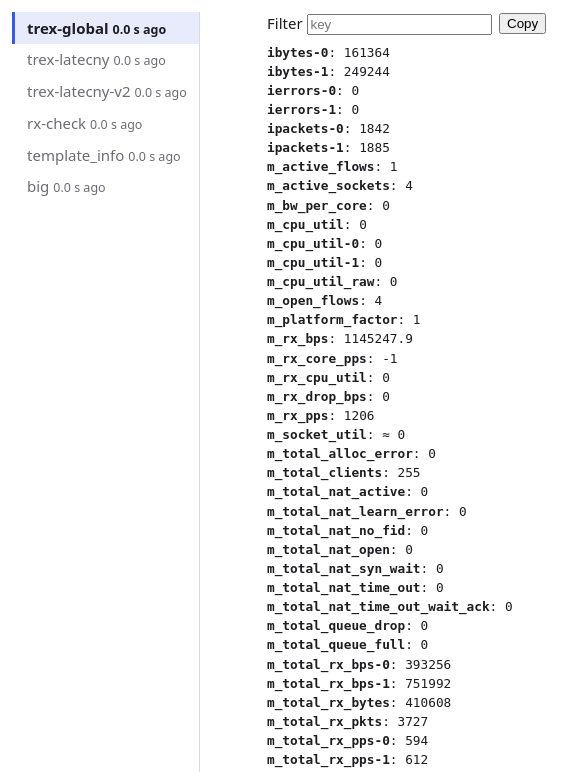
Test case: MonitorInspector › filter narrows keys
Click the tab "big 0.0 s ago": (105, 187) x1=12 y1=171 x2=199 y2=203
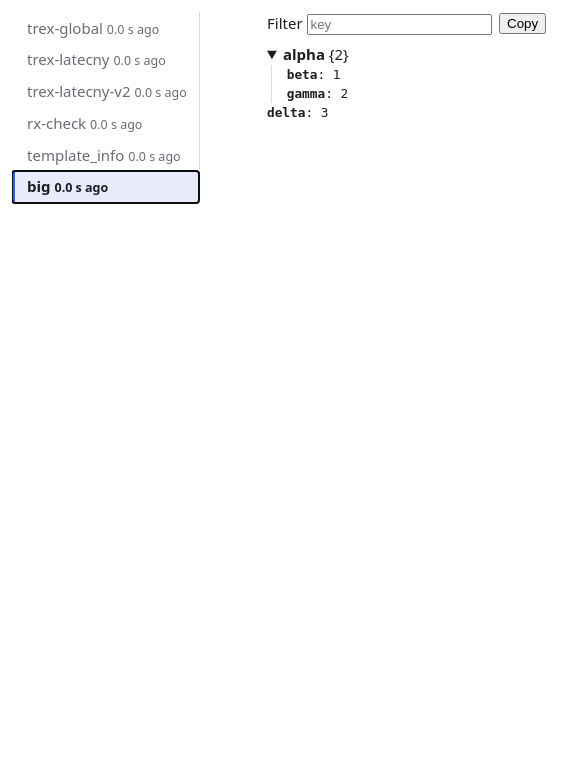
Check: the text "delta" is shown, box x1=267 y1=105 x2=305 y2=120
In the search field labelled "Filter": (399, 24) x1=306 y1=14 x2=492 y2=35, type "gam"
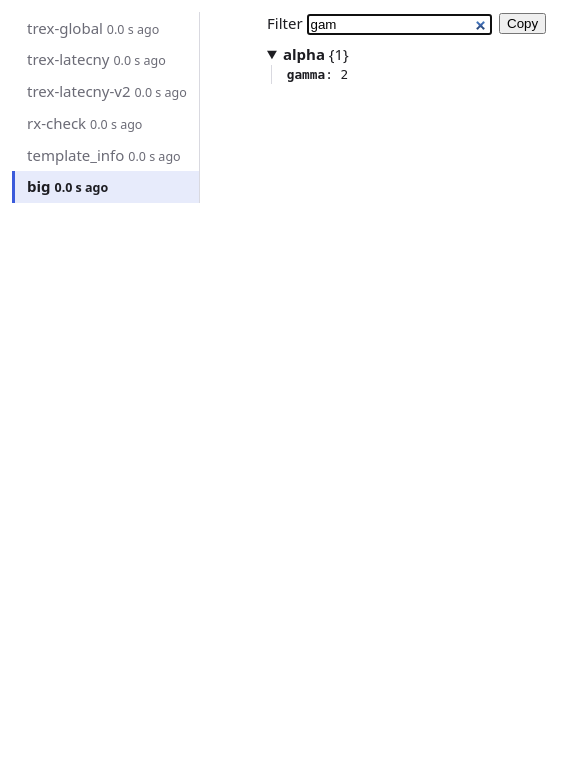
Check: the text "gamma" is shown, box x1=287 y1=67 x2=325 y2=82
Check: the text "alpha" is shown, box x1=283 y1=44 x2=325 y2=64
Check: the text "delta" is gone
